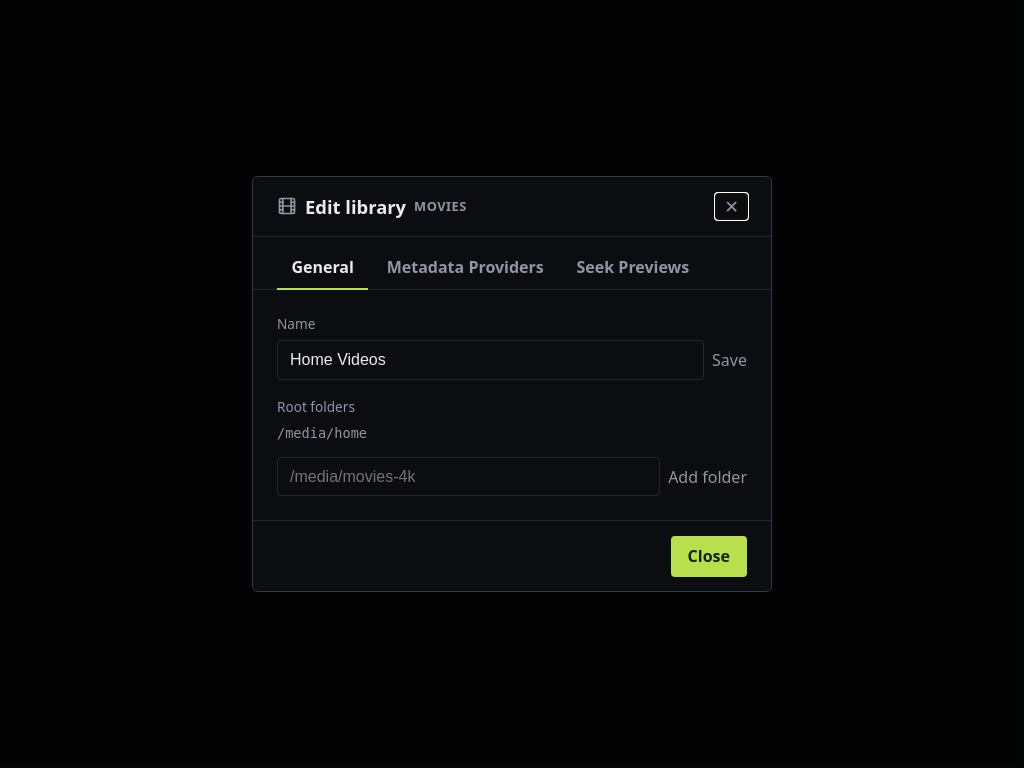
Scenario: EditLibraryDialog tabs › renders a policy control inside the Metadata Providers tab body
This screenshot has width=1024, height=768.
Step 1. Click the tab with test id "edit-library-tab-metadata-providers" → (465, 268), box [372,245,558,290]
(page scrolled)
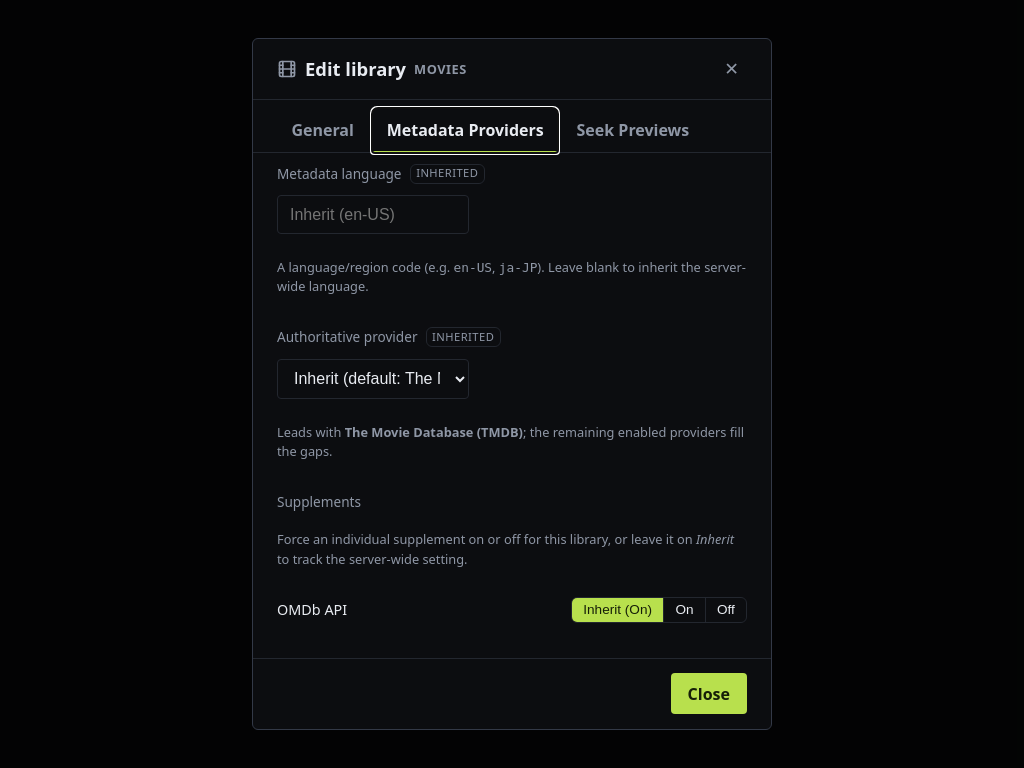
Check: the dropdown with test id "authoritative-select" is shown, box [277,359,469,399]
Check: the element with test id "supplement-omdb" is shown, box [277,597,747,623]
